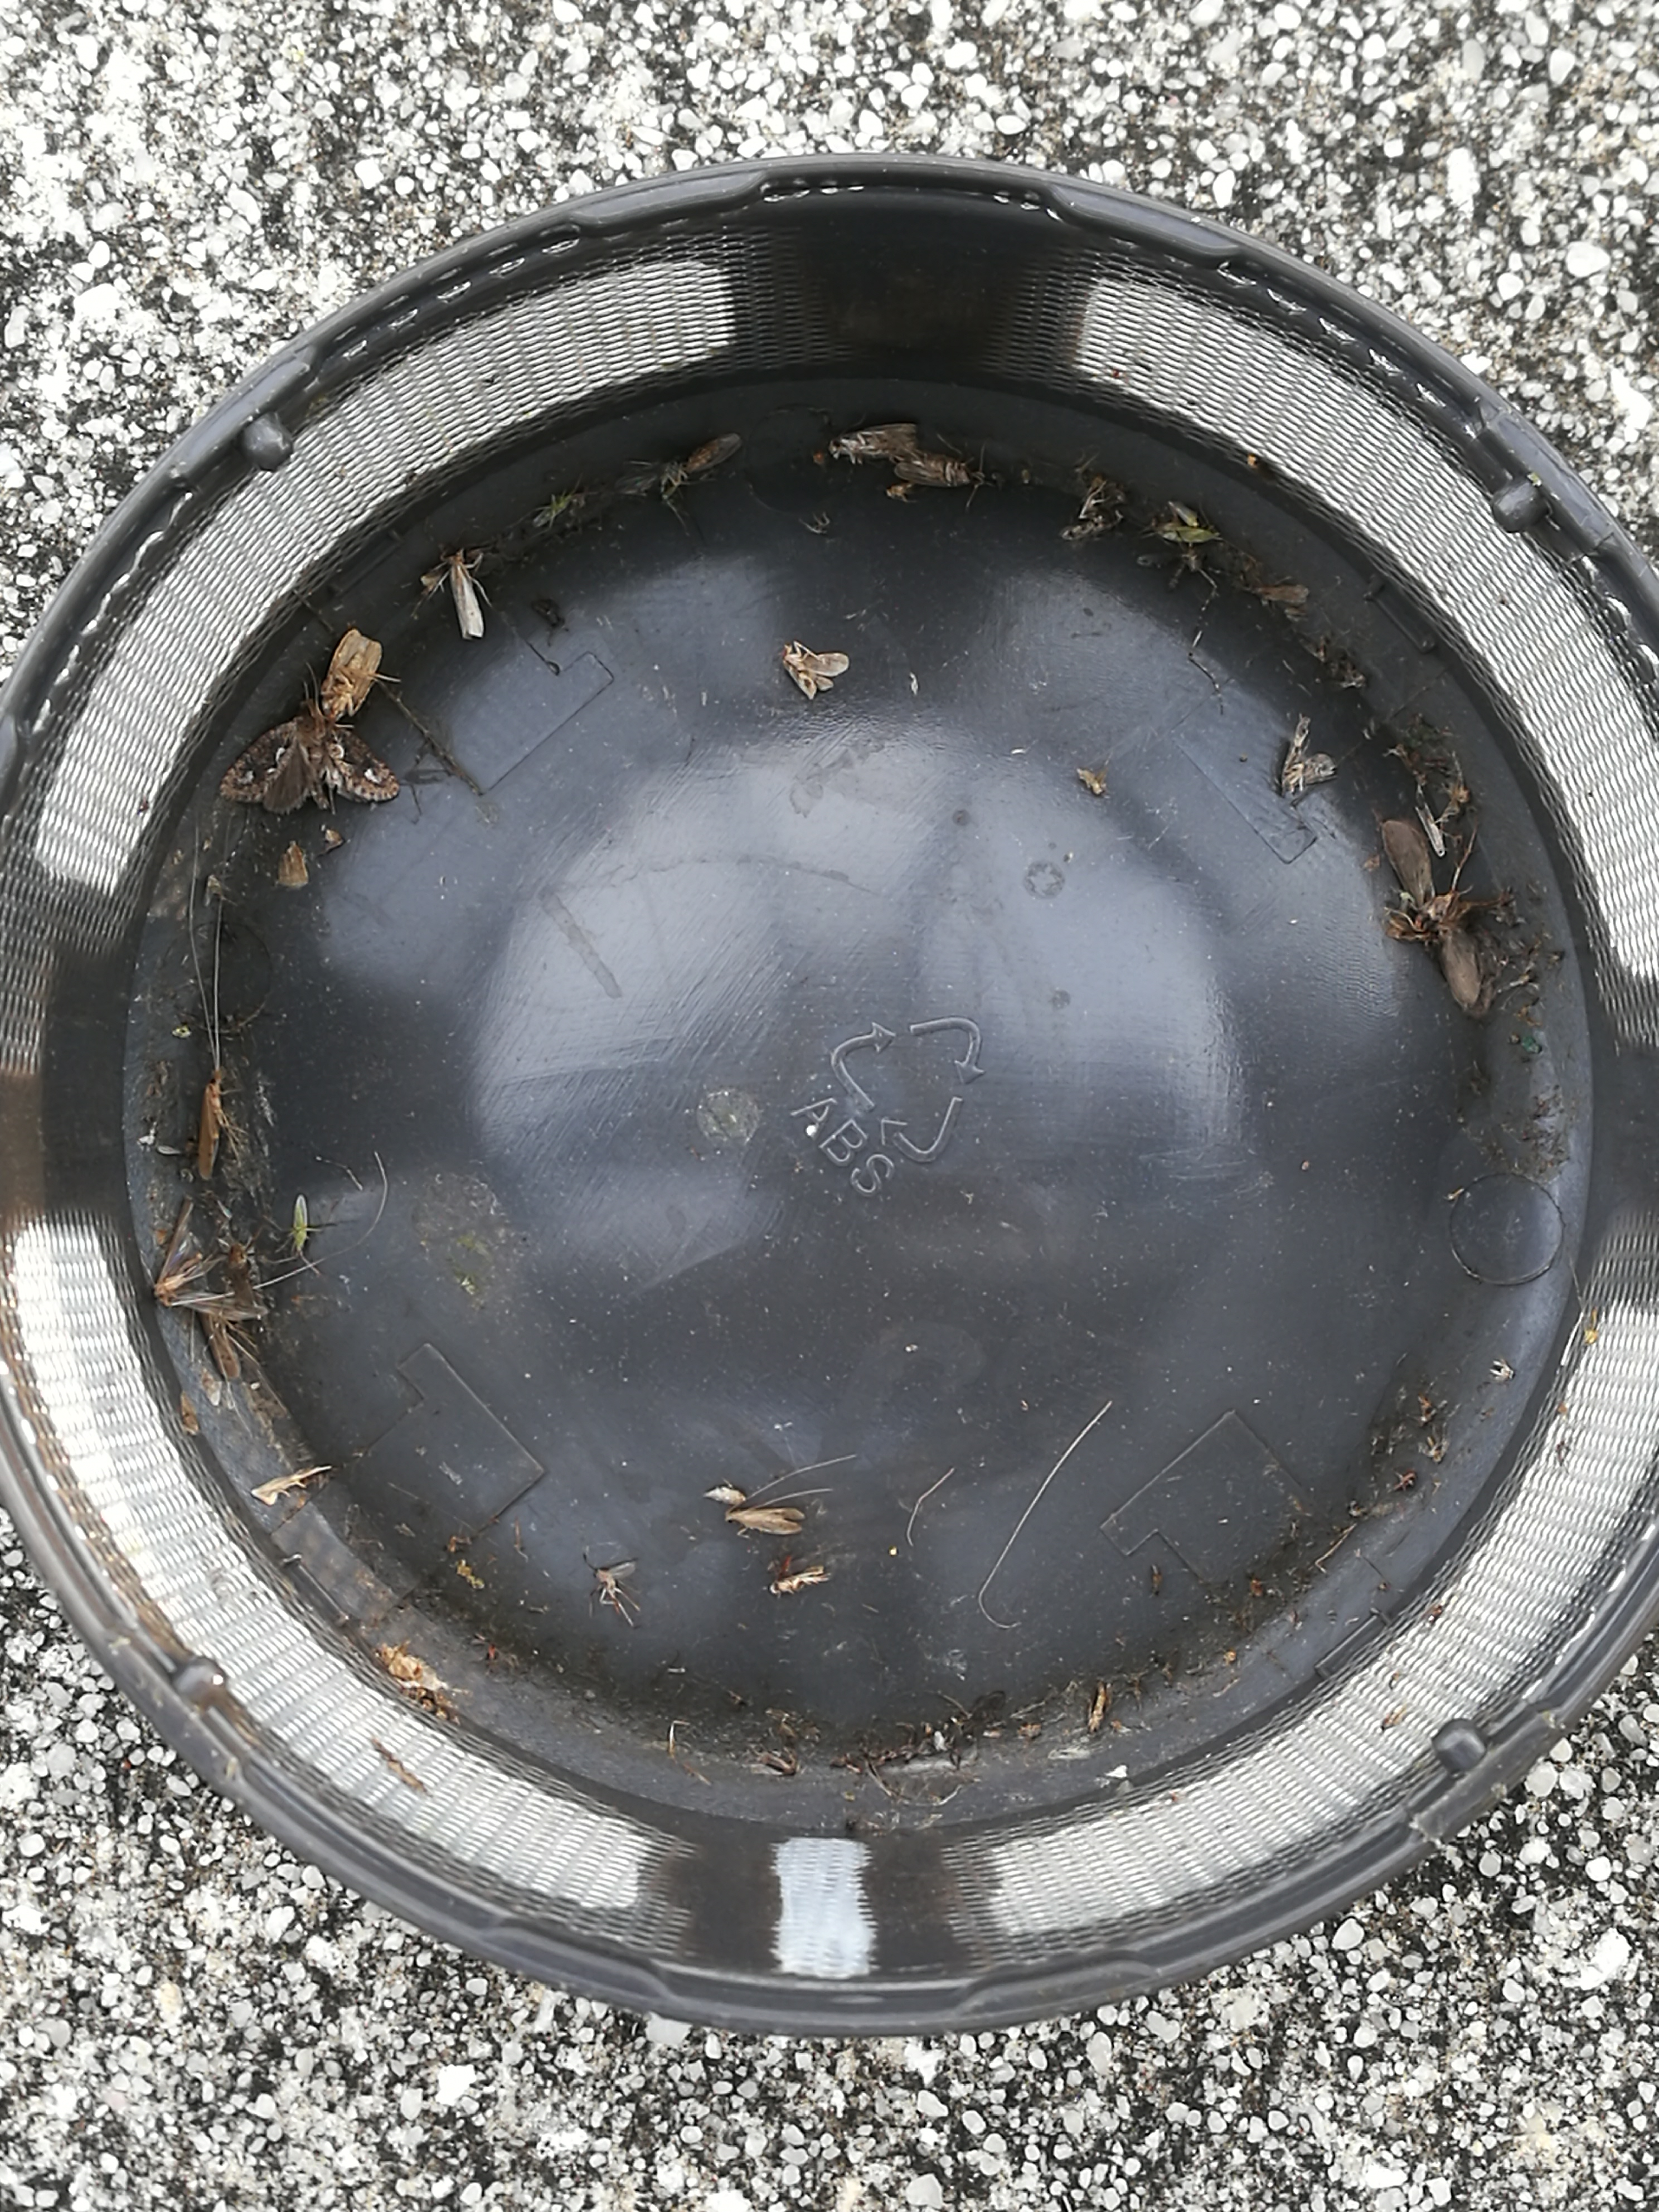mosquito: (448, 549, 481, 639), (200, 1069, 223, 1177), (202, 1315, 240, 1378), (730, 1508, 807, 1534), (685, 437, 741, 469), (770, 1569, 828, 1594), (1419, 806, 1445, 857), (1091, 1681, 1107, 1735), (295, 1197, 308, 1256)
moth: (221, 702, 397, 813), (159, 1197, 270, 1318), (322, 629, 382, 719), (1382, 822, 1434, 906), (1283, 714, 1333, 792), (782, 643, 847, 698), (828, 420, 917, 458), (892, 448, 972, 488)
